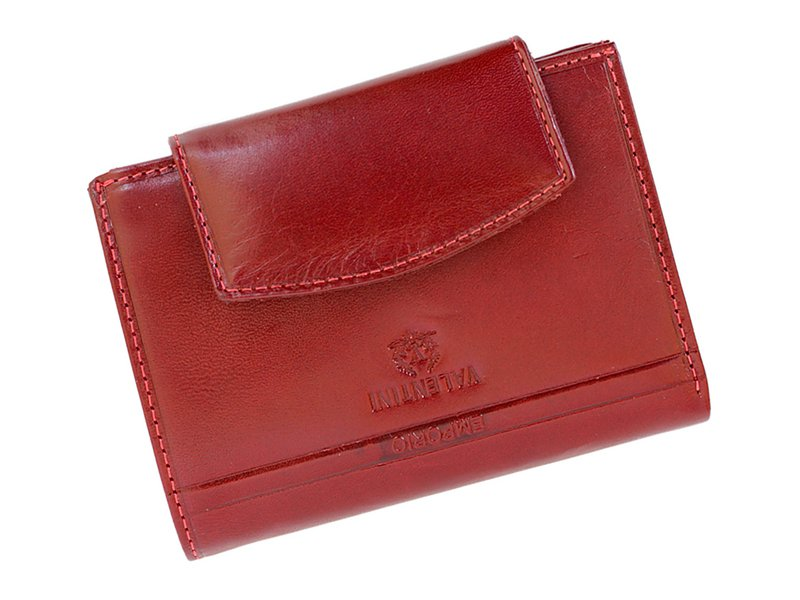monedero: (88, 33, 718, 564)
